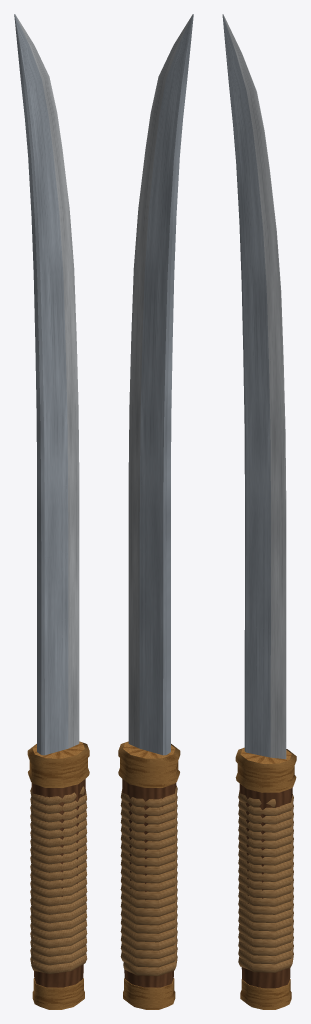
The model's file is thai-sword-06.glb.
3 renders of one model, left to right at view 1: azimuth 30°, elevation 25°; view 2: azimuth 150°, elevation 25°; view 3: azimuth 330°, elevation 25°, orthographic. The views are drawn at different scales.
Visible parts, largest first — view 1: Blade, Handle Wrap, Metal Fittings, Handle; view 2: Blade, Handle Wrap, Metal Fittings, Handle; view 3: Blade, Handle Wrap, Metal Fittings, Handle.
Boxes of the visible parts, x1,y1,x2,y2 form: Blade: [14, 14, 79, 755]; Handle Wrap: [30, 786, 87, 973]; Metal Fittings: [27, 741, 89, 1009]; Handle: [31, 779, 85, 987]; Blade: [128, 14, 193, 755]; Handle Wrap: [120, 785, 177, 976]; Metal Fittings: [118, 741, 180, 1009]; Handle: [122, 779, 176, 987]; Blade: [222, 14, 286, 759]; Handle Wrap: [238, 790, 293, 972]; Metal Fittings: [235, 747, 296, 1009]; Handle: [239, 784, 292, 988].
Size of the model in its own units: 0.1 by 1.31 by 0.0627.
Materials: 5 (5 with a texture image).
